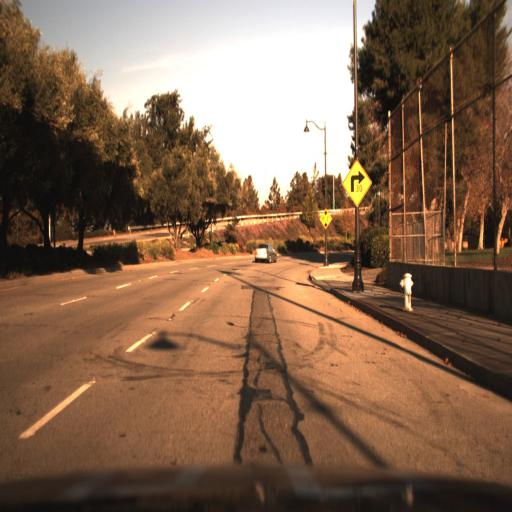car: (251, 236, 274, 265)
